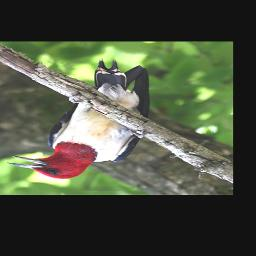Woodpecker: (2, 58, 156, 179)
